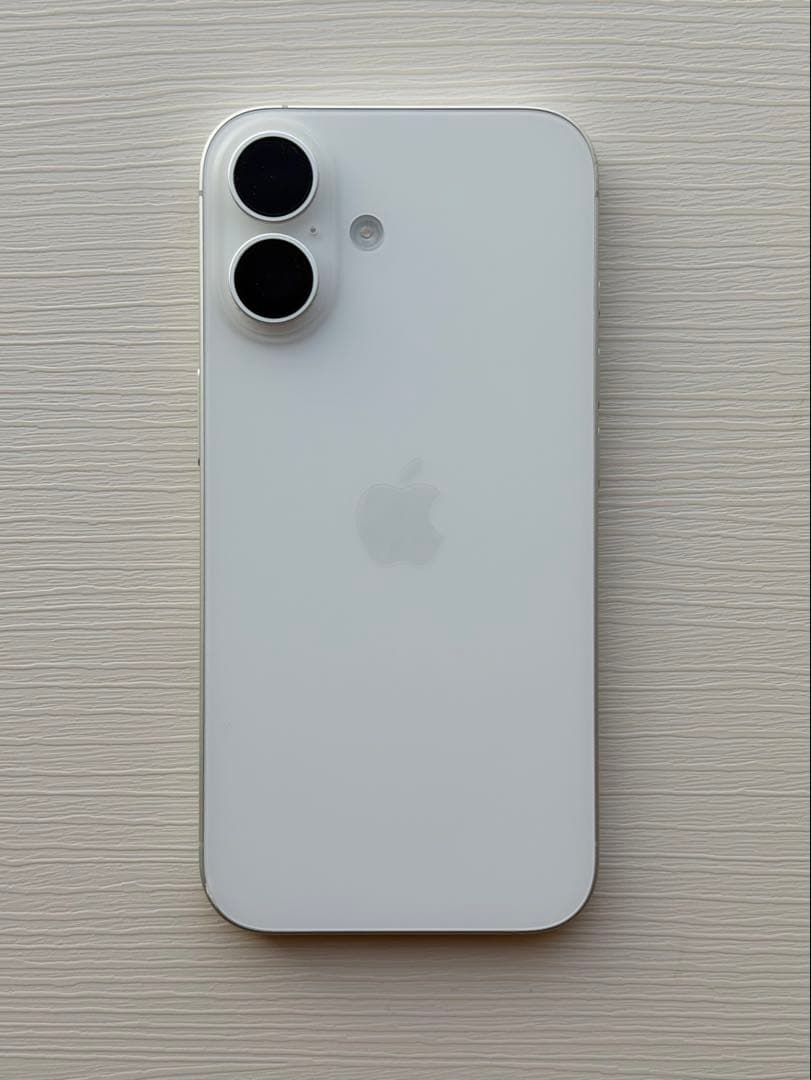iphone16_white: (169, 98, 629, 948), (200, 122, 388, 360)
